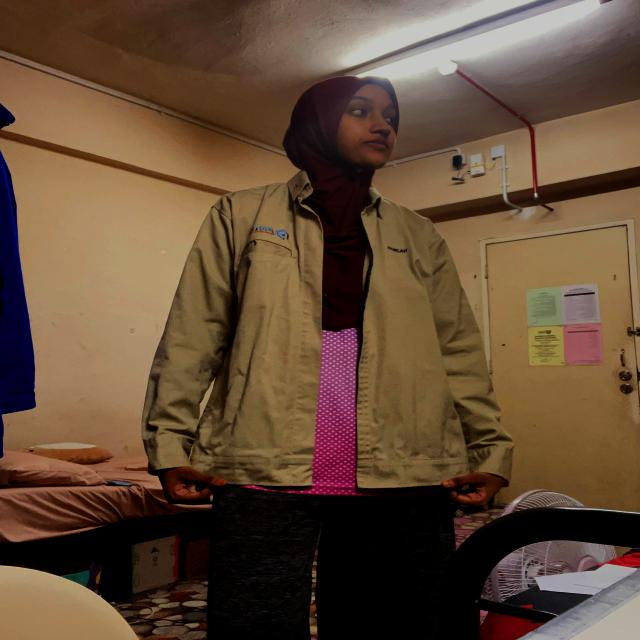person_with_labcoat: (143, 76, 513, 640)
